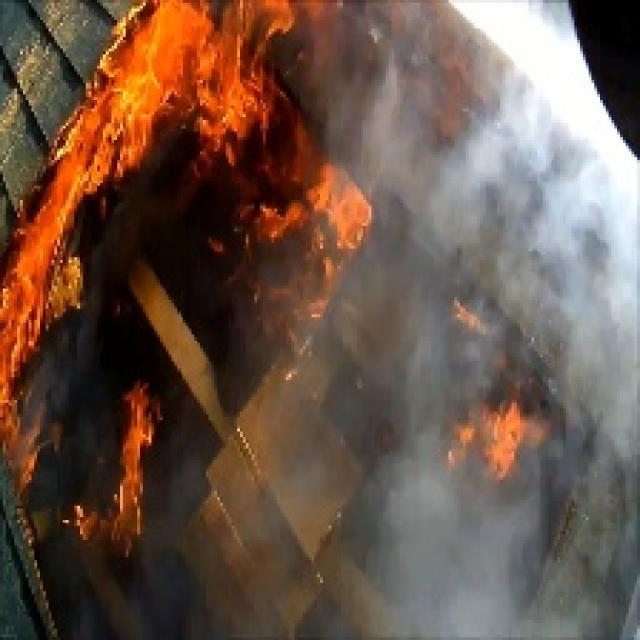Fire: (0, 0, 431, 577), (437, 372, 557, 488)
Smoke: (435, 0, 640, 380), (354, 500, 577, 640)
